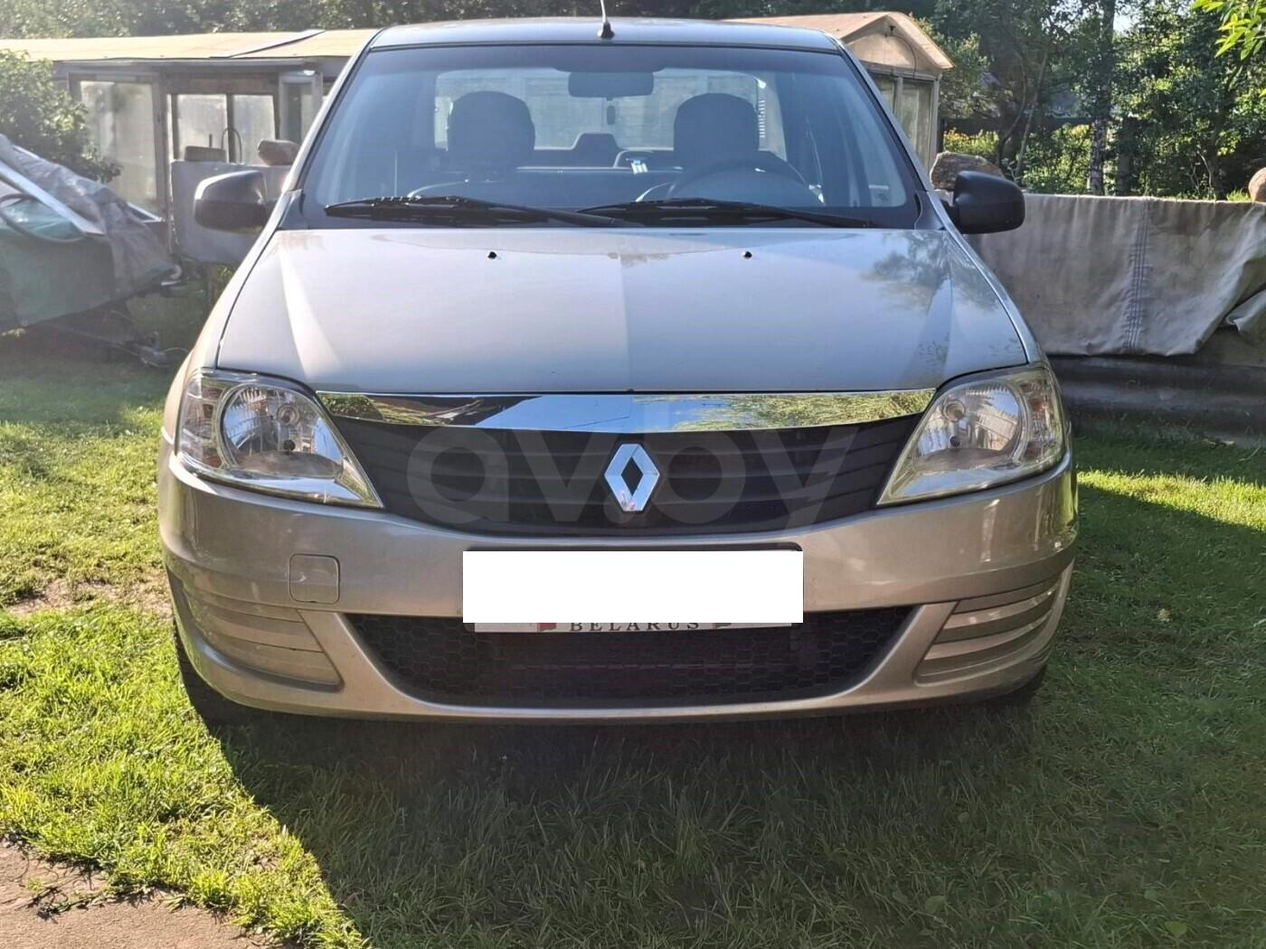Logan_2008-2015: (156, 8, 1094, 745)
